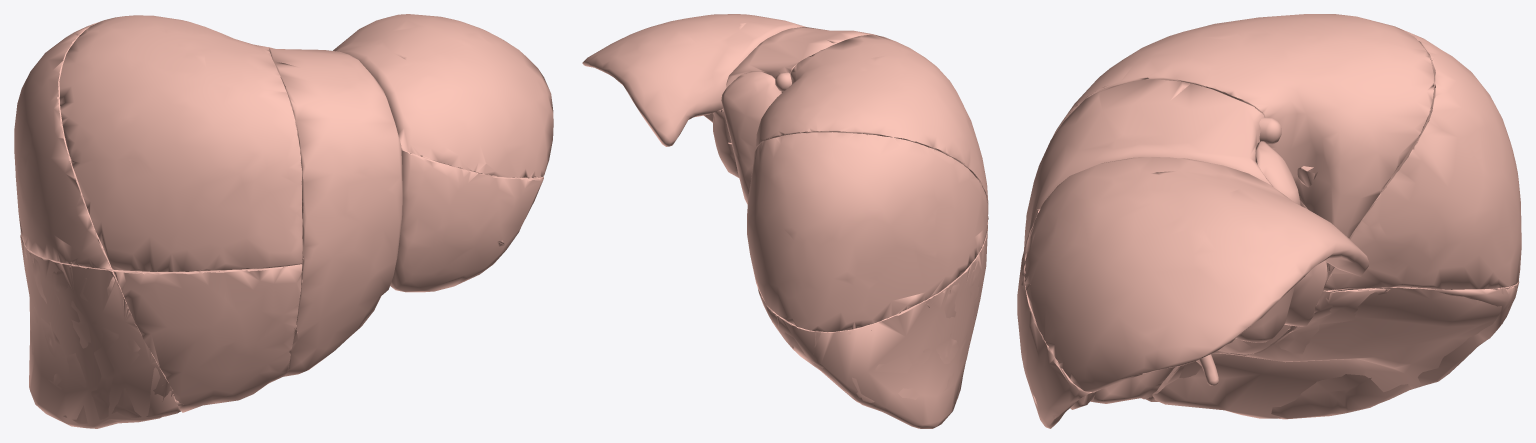
Rendered from liver.glb.
3 renders of one model, left to right at view 1: azimuth 30°, elevation 25°; view 2: azimuth 150°, elevation 25°; view 3: azimuth 270°, elevation 25°, orthographic. The views are drawn at different scales.
Visible parts, largest first — view 1: FJ2824, FJ2820, FJ2818, FJ2821, FJ2409, FJ2819, FJ2823, FJ2822; view 2: FJ2823, FJ2824, FJ2409, FJ2818, FJ2816, FJ2820, FJ2822, FJ2819; view 3: FJ2818, FJ2824, FJ2823, FJ2409, FJ2820, FJ2822, FJ2819, FJ2816, FJ2821, FJ3083.
Part boxes in pixels (x1=…): FJ2824: x1=59, y1=15, x2=302, y2=271; FJ2820: x1=268, y1=47, x2=402, y2=376; FJ2818: x1=333, y1=14, x2=553, y2=178; FJ2821: x1=113, y1=264, x2=302, y2=412; FJ2409: x1=20, y1=231, x2=185, y2=428; FJ2819: x1=390, y1=148, x2=543, y2=292; FJ2823: x1=14, y1=21, x2=112, y2=269; FJ2822: x1=25, y1=251, x2=180, y2=427; FJ2823: x1=747, y1=132, x2=988, y2=332; FJ2824: x1=756, y1=34, x2=988, y2=206; FJ2409: x1=763, y1=222, x2=987, y2=428; FJ2818: x1=582, y1=14, x2=805, y2=146; FJ2816: x1=721, y1=71, x2=781, y2=204; FJ2820: x1=726, y1=27, x2=877, y2=92; FJ2822: x1=758, y1=229, x2=987, y2=413; FJ2819: x1=704, y1=108, x2=739, y2=177; FJ2818: x1=1024, y1=157, x2=1369, y2=392; FJ2824: x1=1052, y1=14, x2=1434, y2=271; FJ2823: x1=1323, y1=28, x2=1521, y2=290; FJ2409: x1=1152, y1=280, x2=1519, y2=418; FJ2820: x1=1024, y1=79, x2=1273, y2=409; FJ2822: x1=1146, y1=284, x2=1517, y2=419; FJ2819: x1=1017, y1=207, x2=1235, y2=428; FJ2816: x1=1235, y1=141, x2=1327, y2=342; FJ2821: x1=1090, y1=324, x2=1292, y2=403; FJ3083: x1=1259, y1=117, x2=1281, y2=144.
Bounding box in the file's own units: 0.6284 × 0.4661 × 0.4771.
